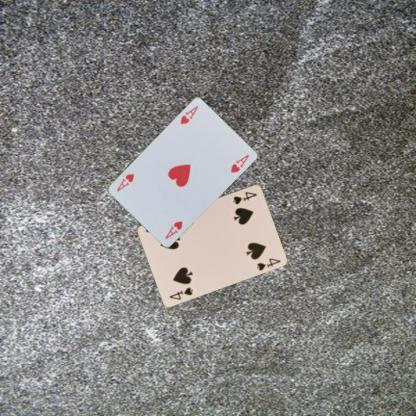4s: (167, 284, 194, 301), (231, 189, 258, 205)
Ah: (178, 103, 200, 126), (162, 218, 184, 240)
